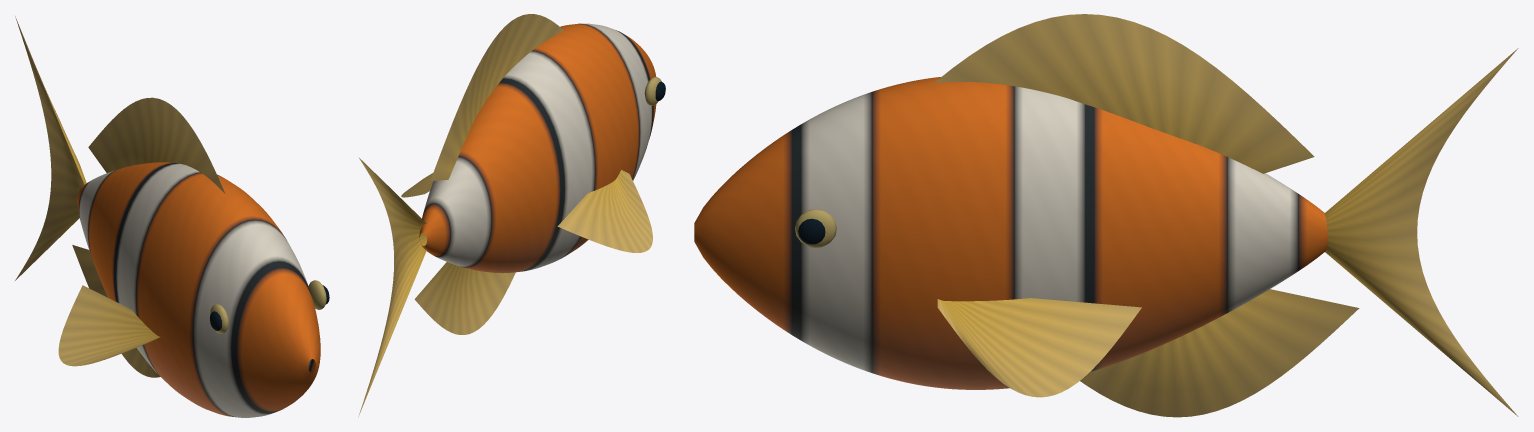
Rendered from clownfish.glb.
The picture shows the model from 3 angles, left to right: view 1: azimuth 30°, elevation 25°; view 2: azimuth 150°, elevation 25°; view 3: azimuth 270°, elevation 25°; orthographic projection. The views are drawn at different scales.
Parts seen in each view (by area): view 1: Ocean Slice clownfish; view 2: Ocean Slice clownfish; view 3: Ocean Slice clownfish.
Part boxes in pixels (left/top/right/bottom): Ocean Slice clownfish: left=15, top=16, right=329, bottom=417; Ocean Slice clownfish: left=358, top=14, right=665, bottom=416; Ocean Slice clownfish: left=694, top=14, right=1518, bottom=417.
Bounding box in the file's own units: 0.62 × 0.697 × 1.29.
